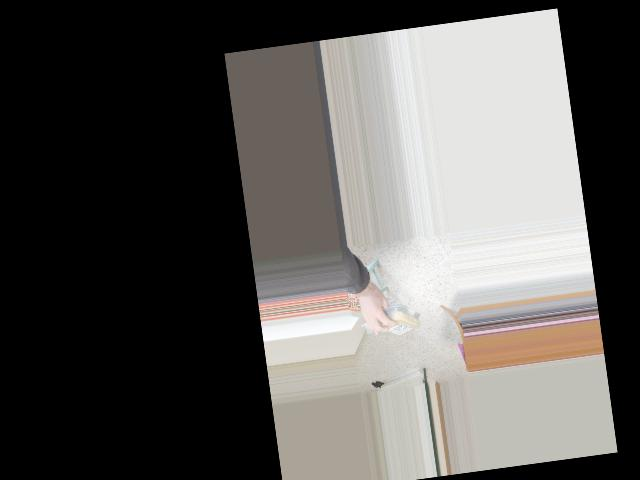cheese: (367, 306, 422, 338)
